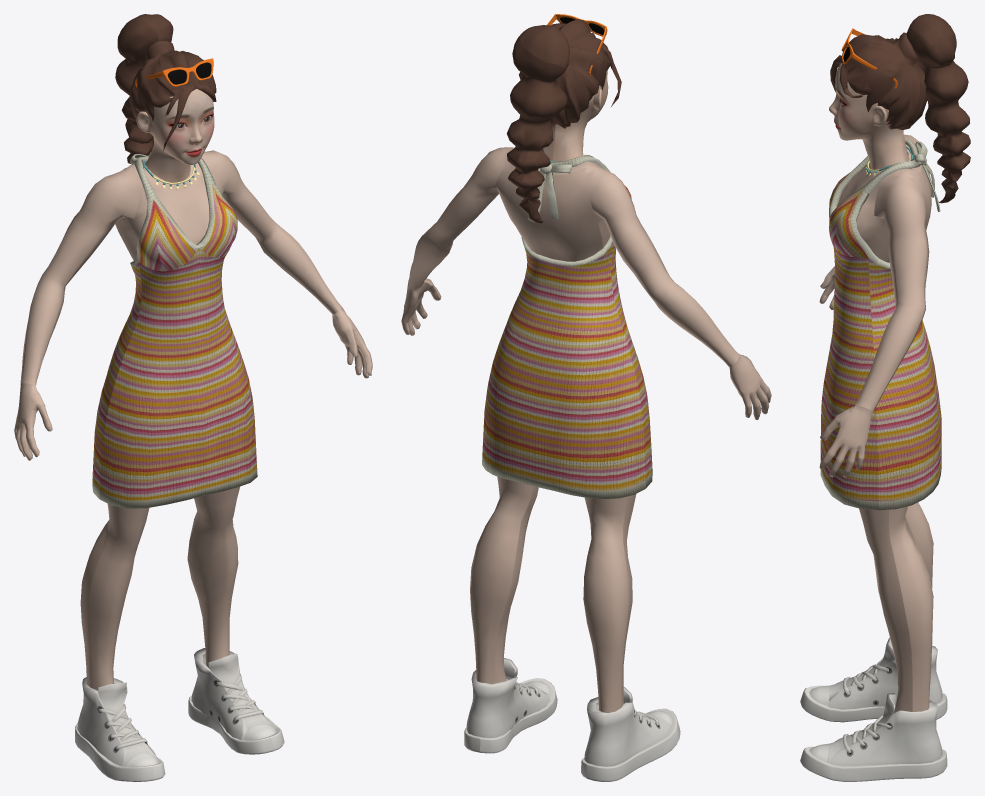
Rendered from Noei.fbx.
The picture shows the model from 3 angles, left to right: view 1: azimuth 30°, elevation 25°; view 2: azimuth 150°, elevation 25°; view 3: azimuth 270°, elevation 25°; orthographic projection. The views are drawn at different scales.
Visible parts, largest first — view 1: Wolf3D_Outfit_Top, Wolf3D_Body, Wolf3D_Outfit_Footwear, Wolf3D_Hair, Wolf3D_Head, Wolf3D_Glasses; view 2: Wolf3D_Body, Wolf3D_Outfit_Top, Wolf3D_Hair, Wolf3D_Outfit_Footwear, Wolf3D_Head; view 3: Wolf3D_Outfit_Top, Wolf3D_Body, Wolf3D_Outfit_Footwear, Wolf3D_Hair, Wolf3D_Head, Wolf3D_Glasses.
Part boxes in pixels (left/top/right/bottom): Wolf3D_Outfit_Top: left=92, top=154, right=257, bottom=508; Wolf3D_Body: left=14, top=150, right=372, bottom=690; Wolf3D_Outfit_Footwear: left=75, top=648, right=284, bottom=781; Wolf3D_Hair: left=115, top=14, right=216, bottom=164; Wolf3D_Head: left=136, top=89, right=214, bottom=182; Wolf3D_Glasses: left=135, top=58, right=213, bottom=87; Wolf3D_Body: left=401, top=147, right=771, bottom=712; Wolf3D_Outfit_Top: left=482, top=154, right=652, bottom=498; Wolf3D_Hair: left=506, top=19, right=621, bottom=223; Wolf3D_Outfit_Footwear: left=464, top=658, right=680, bottom=781; Wolf3D_Head: left=543, top=70, right=608, bottom=161; Wolf3D_Outfit_Top: left=820, top=138, right=941, bottom=510; Wolf3D_Body: left=819, top=134, right=933, bottom=713; Wolf3D_Outfit_Footwear: left=800, top=637, right=947, bottom=781; Wolf3D_Hair: left=830, top=14, right=970, bottom=203; Wolf3D_Head: left=829, top=63, right=909, bottom=169; Wolf3D_Glasses: left=841, top=28, right=897, bottom=88.
Size of the model in its own units: 92.79 by 182 by 38.87.
